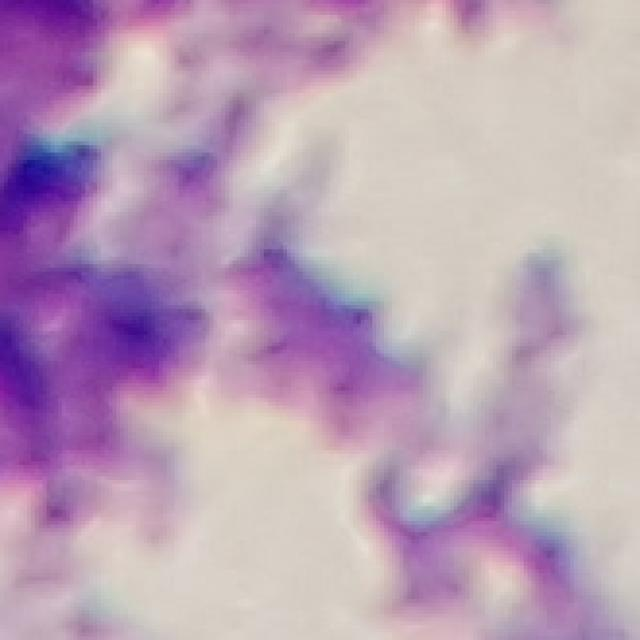non-sperm: (0, 119, 209, 501), (233, 235, 427, 432), (352, 454, 578, 612)
